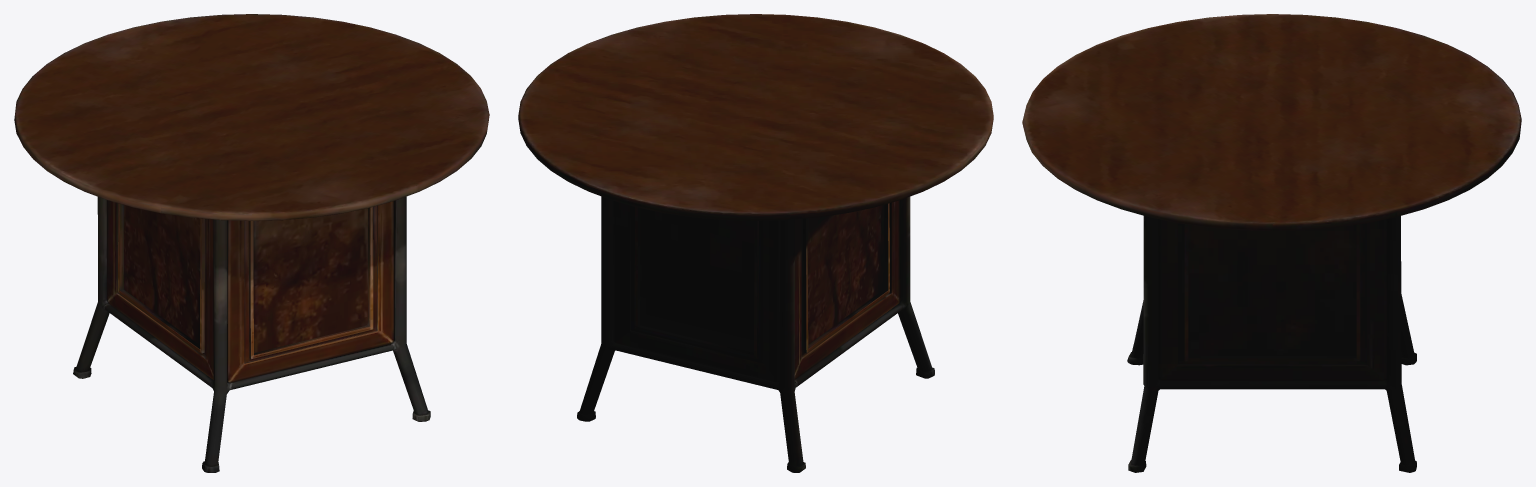
Rendered from table-1k.glb.
3 views of the same model, side by side, from view 1: azimuth 30°, elevation 25°; view 2: azimuth 150°, elevation 25°; view 3: azimuth 270°, elevation 25° (orthographic). The views are drawn at different scales.
Size of the model in its own units: 19.25 by 12.6 by 19.2.
1 material, 1 textured.
